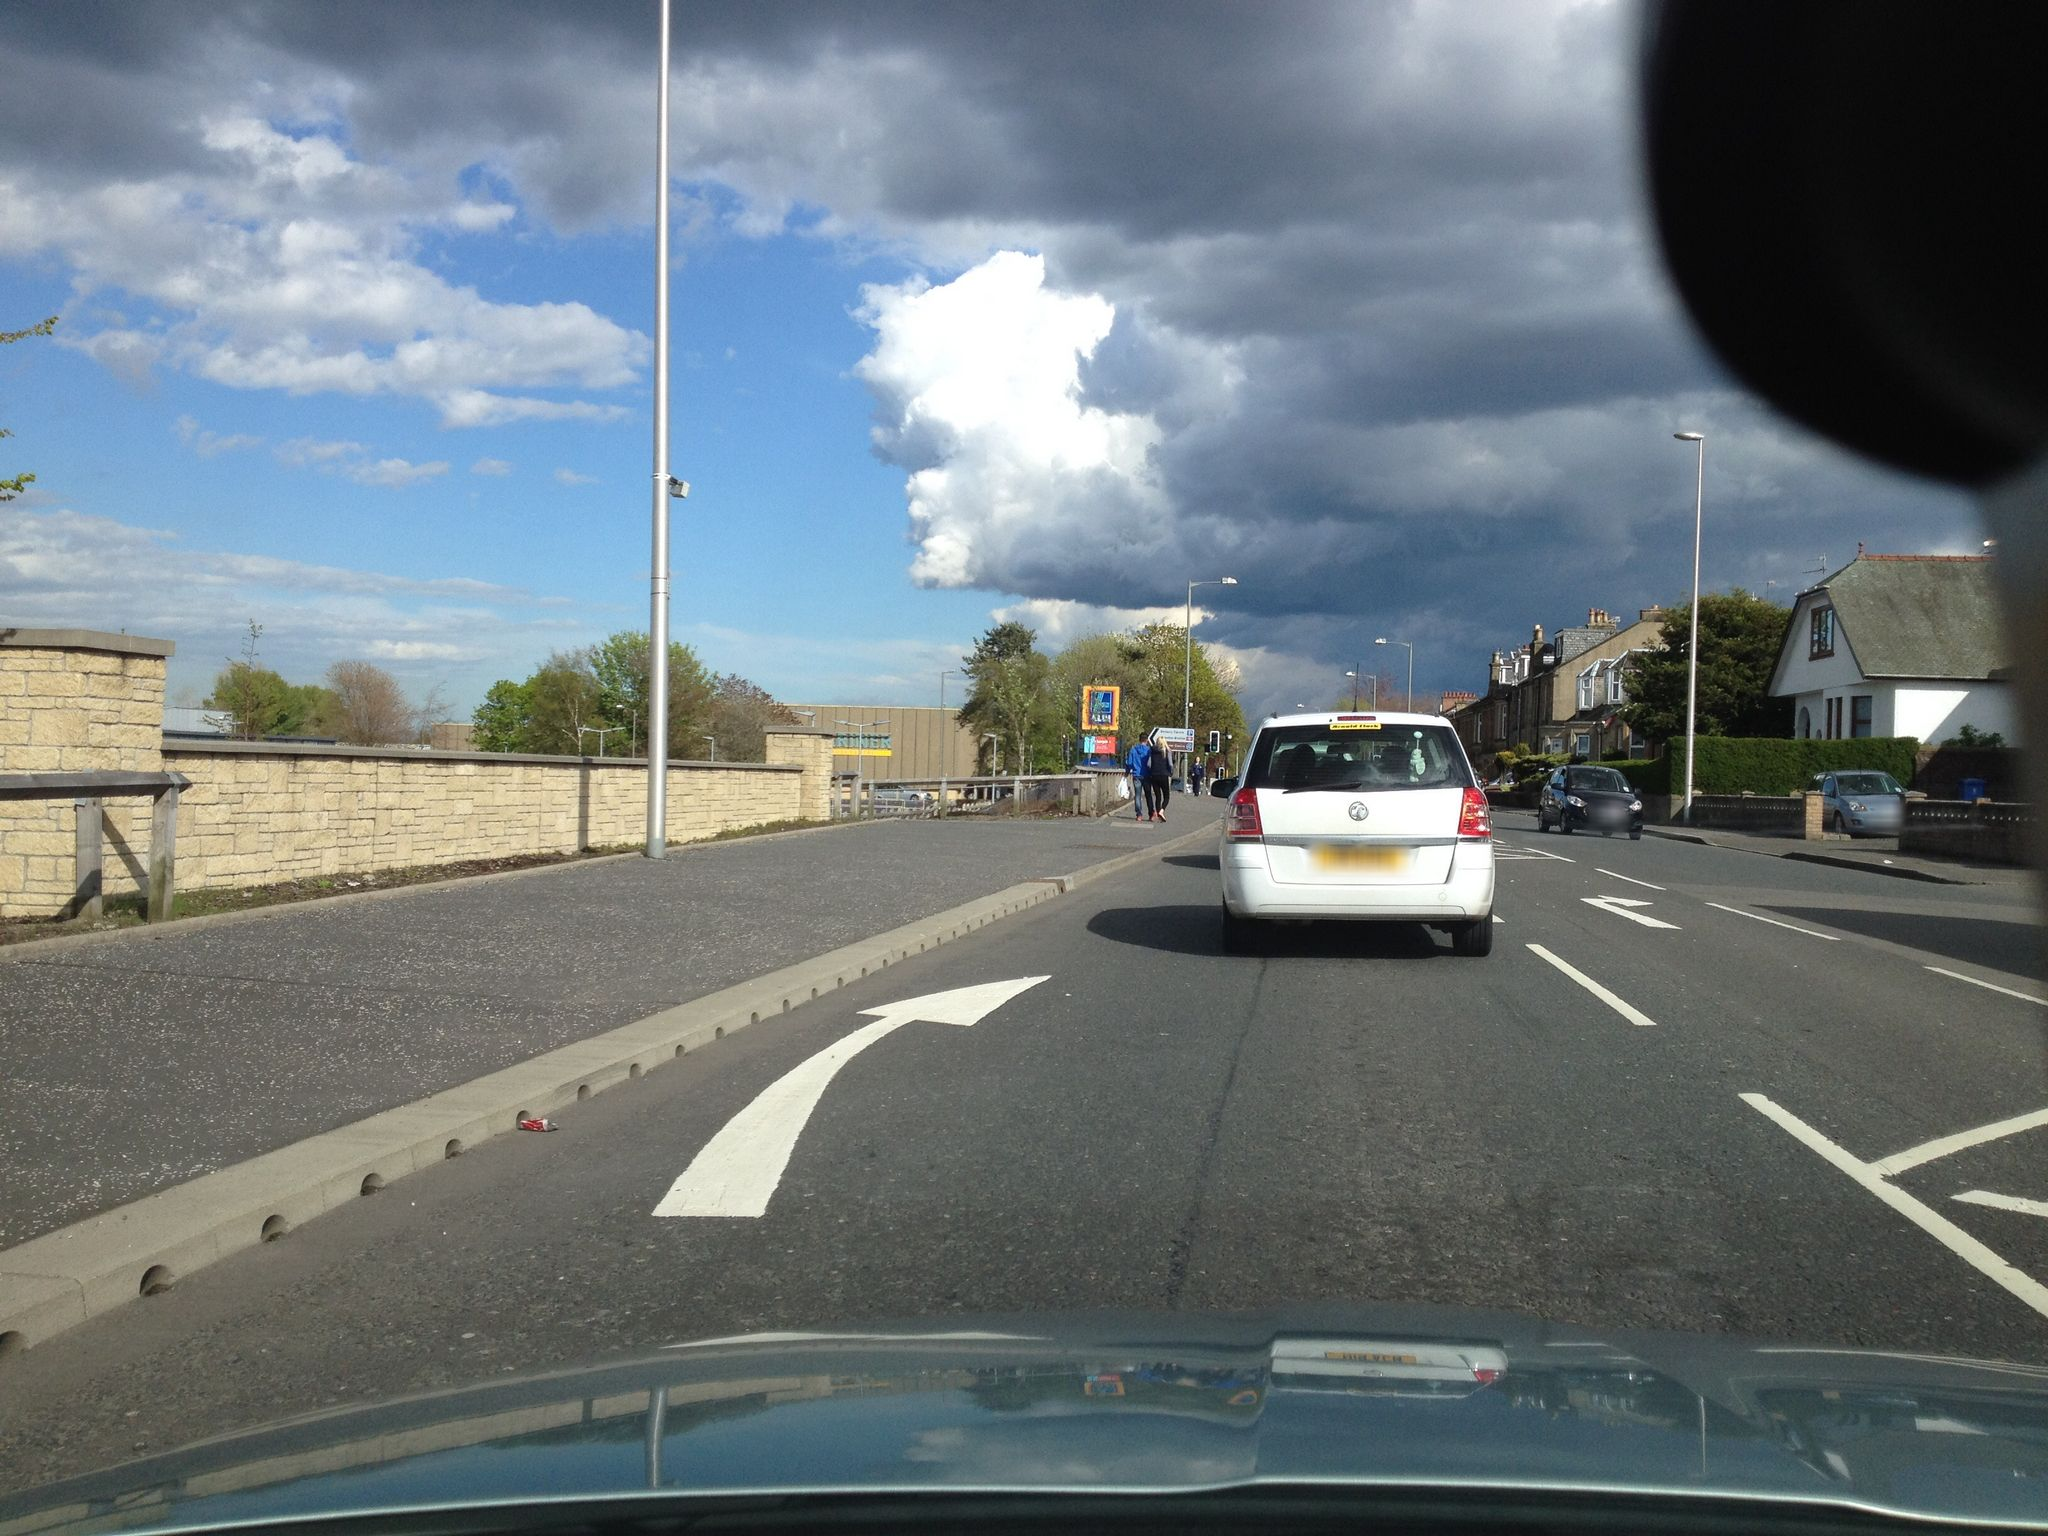car: (1198, 703, 1490, 963), (1537, 765, 1642, 841), (1809, 770, 1906, 836)
